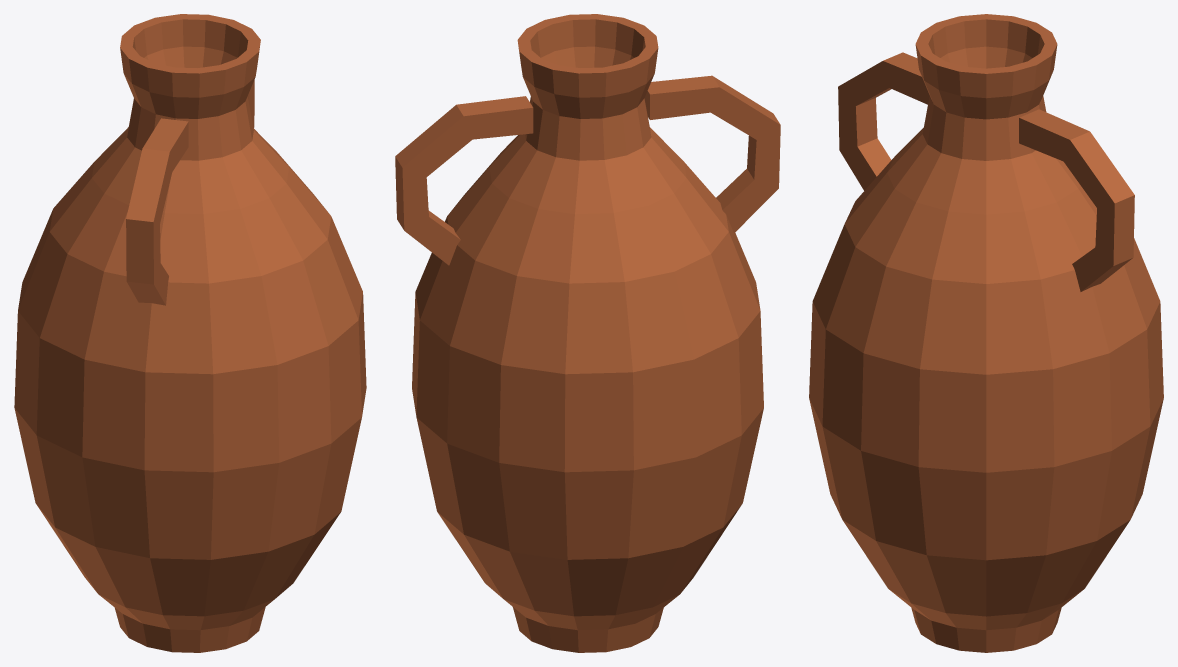
Rendered from SM_Vase_01.fbx.
The picture shows the model from 3 angles, left to right: view 1: azimuth 30°, elevation 25°; view 2: azimuth 150°, elevation 25°; view 3: azimuth 270°, elevation 25°; orthographic projection.
Visible parts, largest first — view 1: SM_Vase_01; view 2: SM_Vase_01; view 3: SM_Vase_01.
Boxes of the visible parts, x1,y1,x2,y2 form: SM_Vase_01: (14, 14, 366, 652); SM_Vase_01: (395, 14, 780, 652); SM_Vase_01: (809, 14, 1163, 652).
Size of the model in its own units: 0.5 by 0.9 by 0.5.
